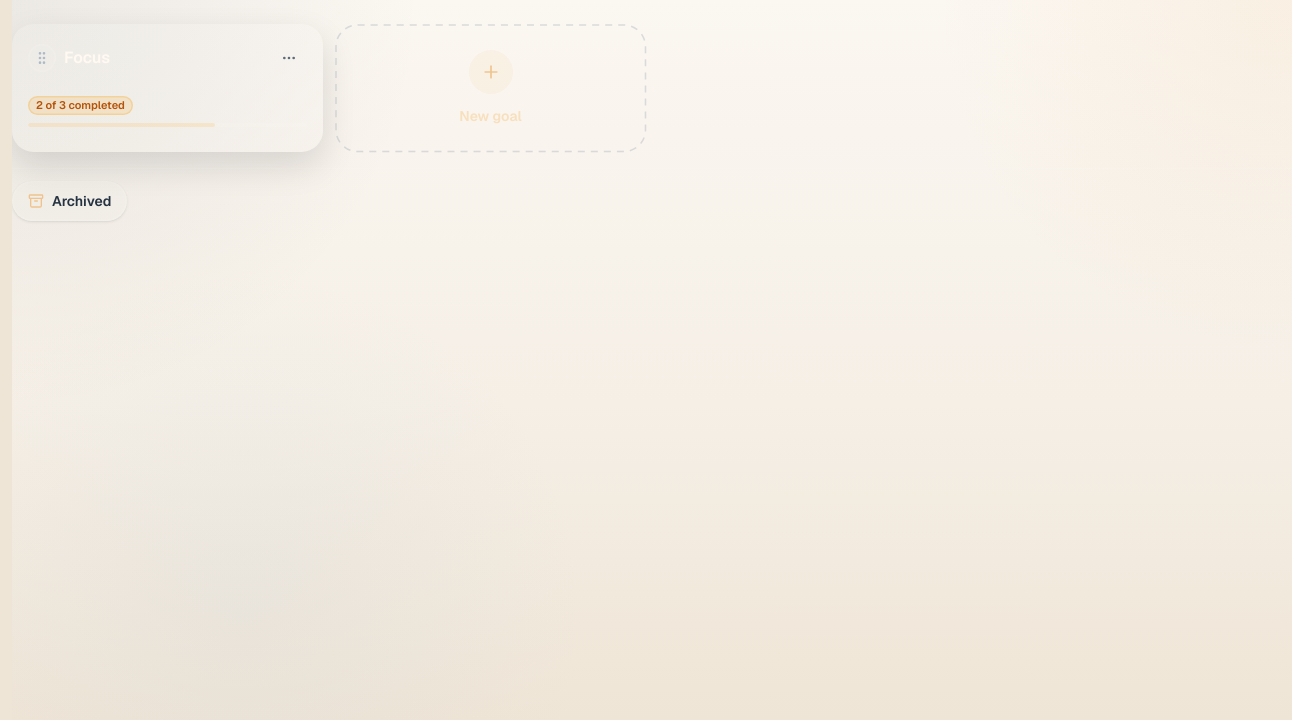
Scenario: GoalsSurface › uses the same button pattern to enter and leave archived goals
Click the button "Archived" at (70, 201), box [12,181,127,221]
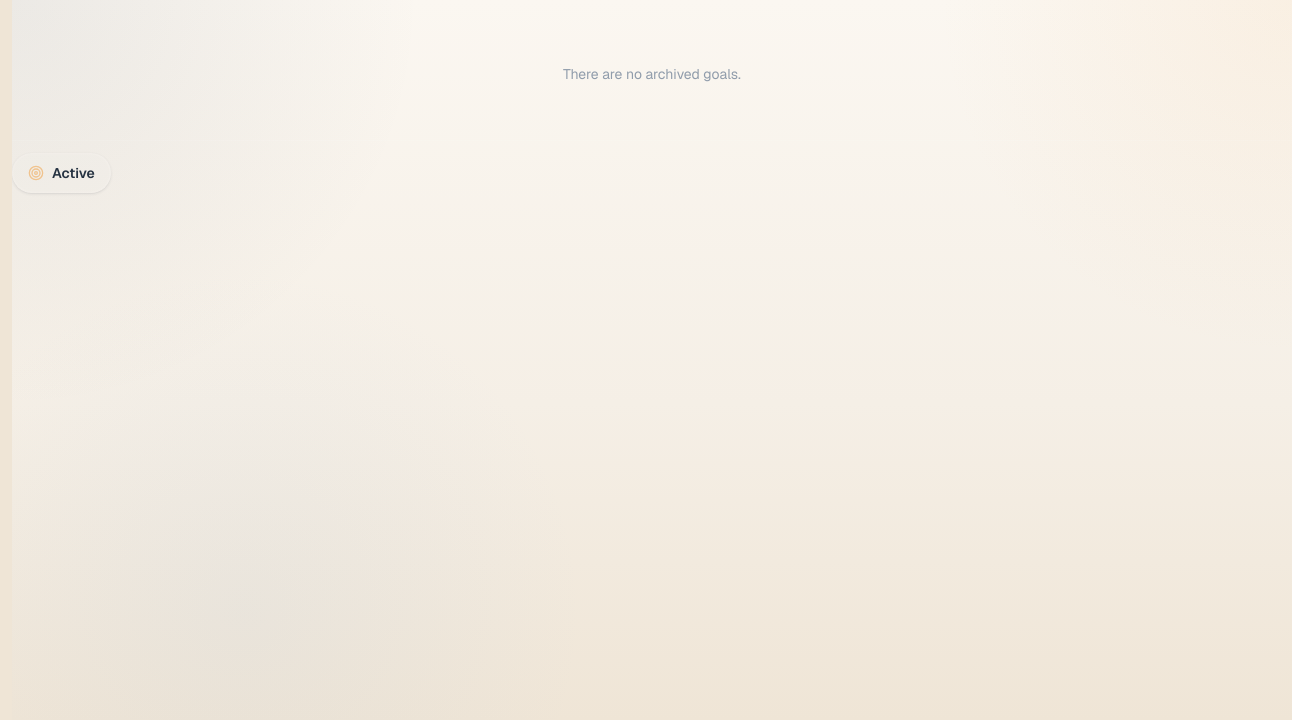
expect the icon with class "lucide-target" is shown: met, box [28,165,44,181]
